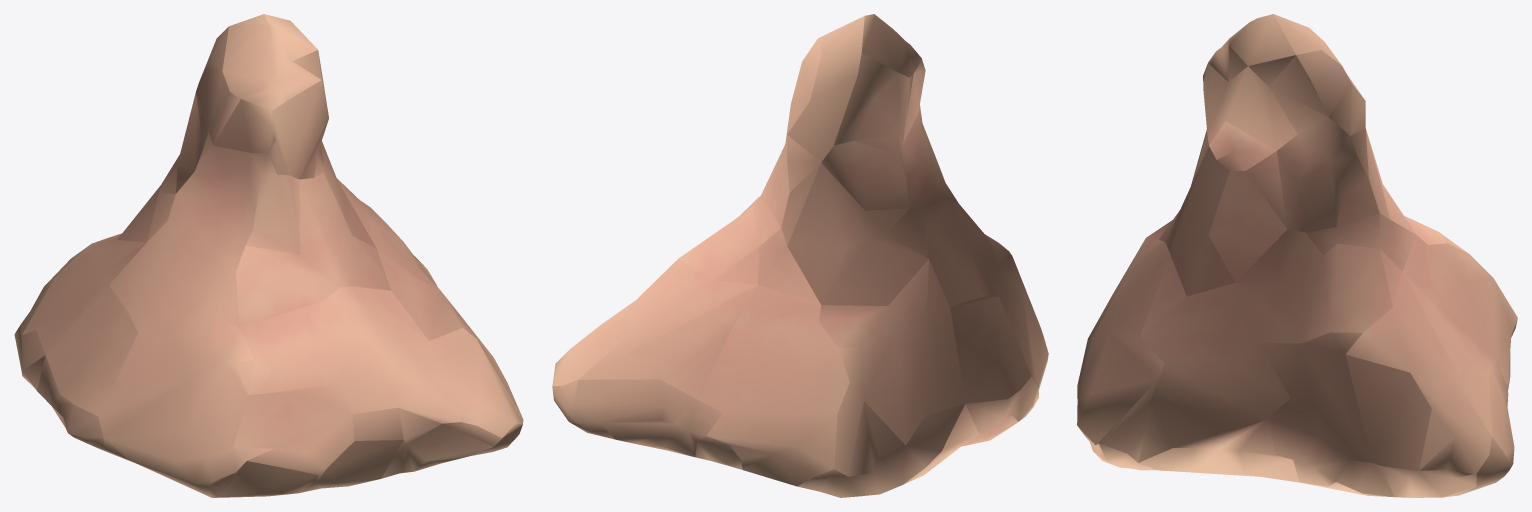
Rendered from ROK0110037.fbx.
3 renders of one model, left to right at view 1: azimuth 30°, elevation 25°; view 2: azimuth 150°, elevation 25°; view 3: azimuth 270°, elevation 25°, orthographic. The views are drawn at different scales.
Parts seen in each view (by area): view 1: smROK0110037; view 2: smROK0110037; view 3: smROK0110037.
Part boxes in pixels (x1=…): smROK0110037: x1=14, y1=14, x2=523, y2=497; smROK0110037: x1=552, y1=14, x2=1048, y2=497; smROK0110037: x1=1077, y1=14, x2=1517, y2=497.
Size of the model in its own units: 294 by 272 by 282.
Materials: 1 (1 with a texture image).
